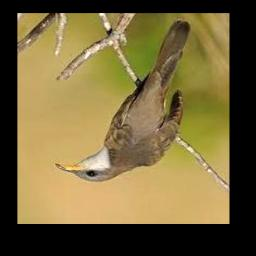Cuckoo: (56, 20, 193, 181)
